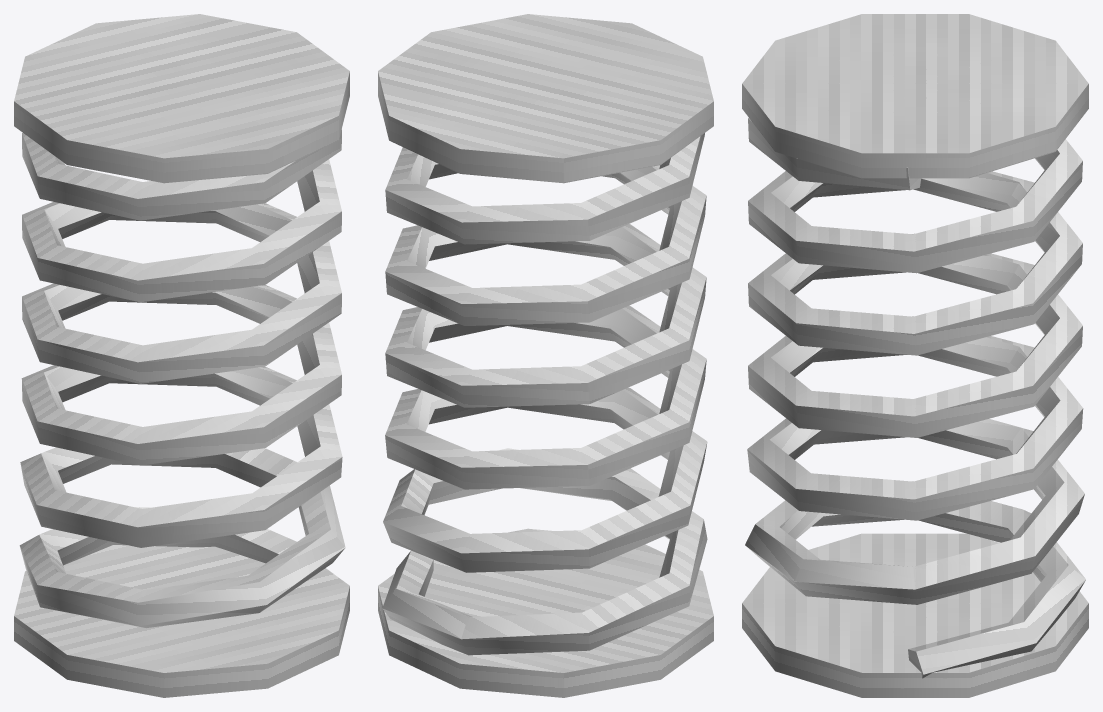
The model's file is molas_fabrica.glb.
3 renders of one model, left to right at view 1: azimuth 30°, elevation 25°; view 2: azimuth 150°, elevation 25°; view 3: azimuth 270°, elevation 25°, orthographic.
Visible parts, largest first — view 1: molas_fabrica; view 2: molas_fabrica; view 3: molas_fabrica.
Part boxes in pixels (x1,y1,x2,y2): molas_fabrica: (14,14,349,697); molas_fabrica: (378,14,713,697); molas_fabrica: (742,14,1088,697).
Bounding box in the file's own units: 0.1469 × 0.26 × 0.15.
1 material, 1 textured.
